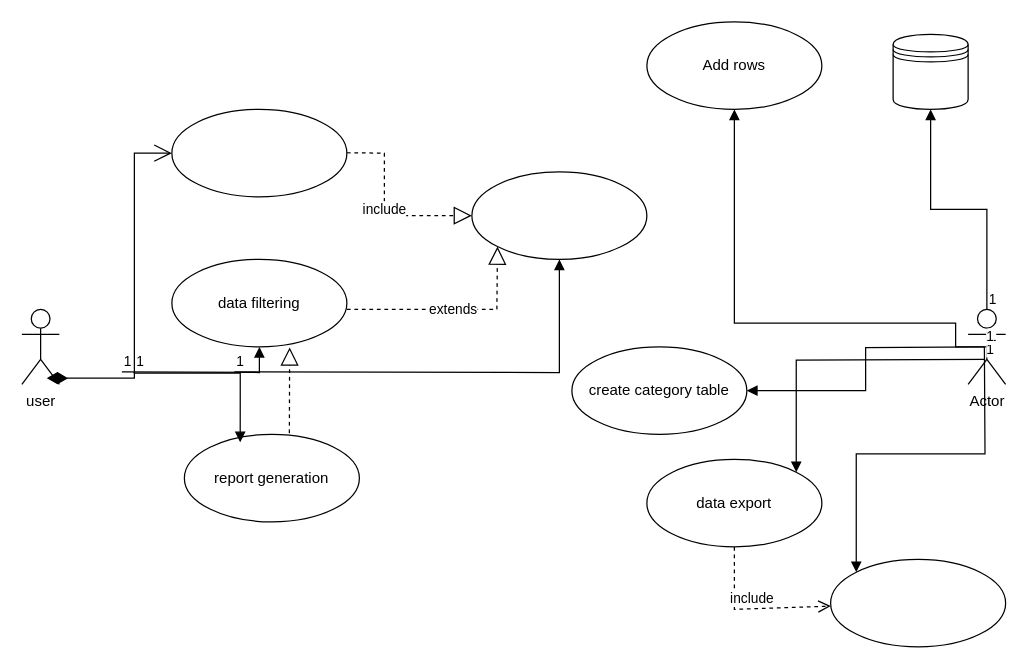
Image size: 1028x669. Some labels were removed from this diagram. Here are the shapes that lost their labels. From the top down, the centre of each, then its label:
At [930,71]: "database".
At [259,152]: "authorisation".
At [559,215]: "CRUD:humanq".
At [917,602]: "delete table".
